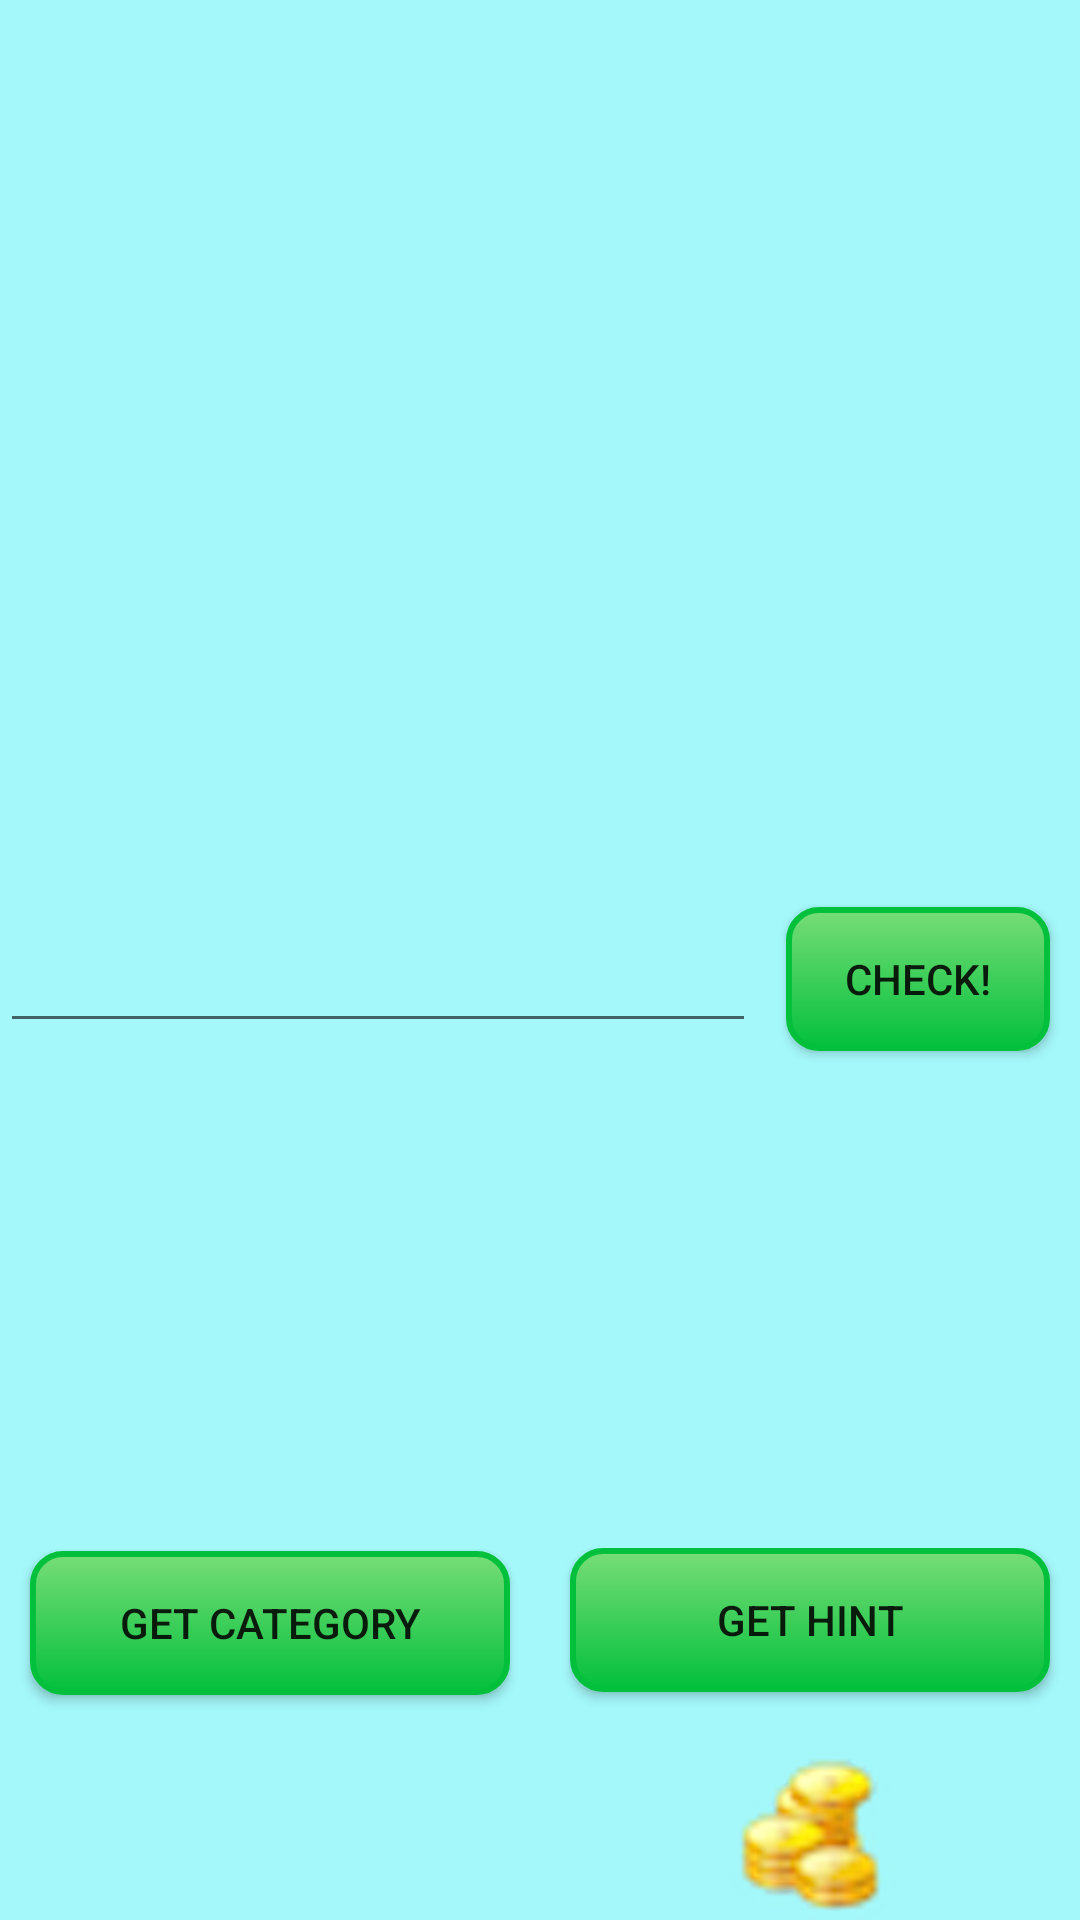

Where icons sit on this 1080px×1920px app screen, as (x1, y1, x2, y2):
credits: (741, 1760, 880, 1910)
